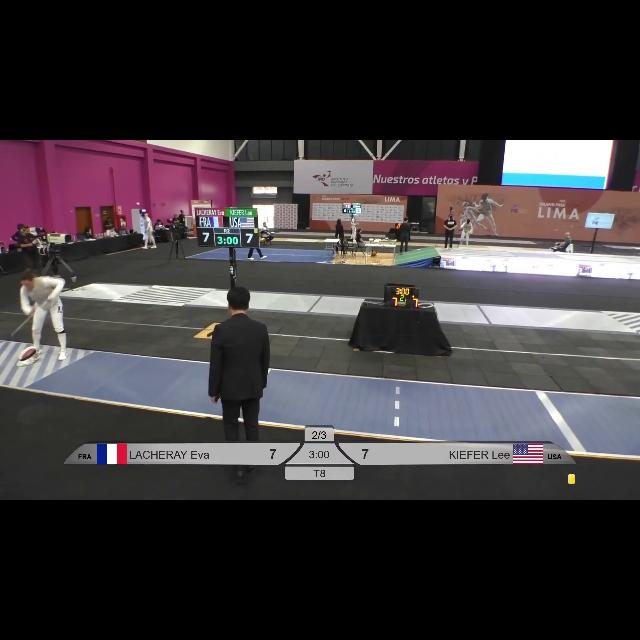blade: (8, 296, 52, 338)
